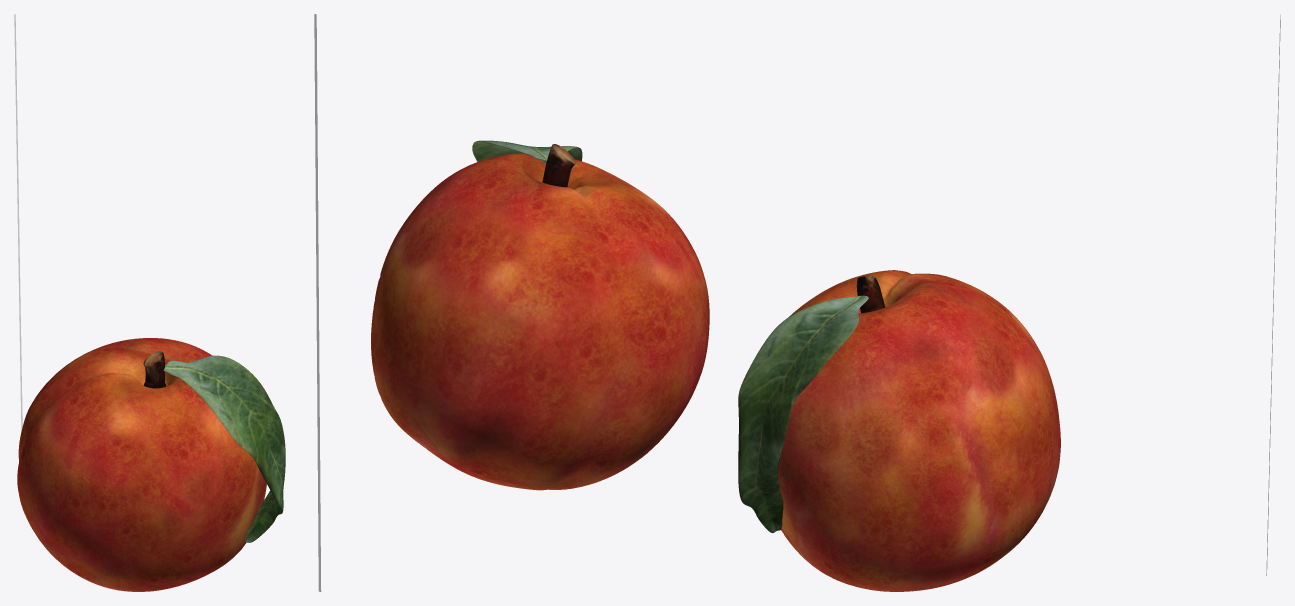
The picture shows the model from 3 angles, left to right: view 1: azimuth 30°, elevation 25°; view 2: azimuth 150°, elevation 25°; view 3: azimuth 270°, elevation 25°; orthographic projection. The views are drawn at different scales.
Parts seen in each view (by area): view 1: 10196_Peach, Плоскость; view 2: 10196_Peach, Плоскость; view 3: 10196_Peach.
Part boxes in pixels (box(x1,y1,x2,y2)): 10196_Peach: box(17, 338, 285, 591); Плоскость: box(14, 14, 22, 431); 10196_Peach: box(371, 140, 709, 490); Плоскость: box(314, 14, 321, 591); 10196_Peach: box(738, 270, 1060, 591).
Size of the model in its own units: 16.69 by 32.54 by 27.91.
2 materials, 1 textured.
